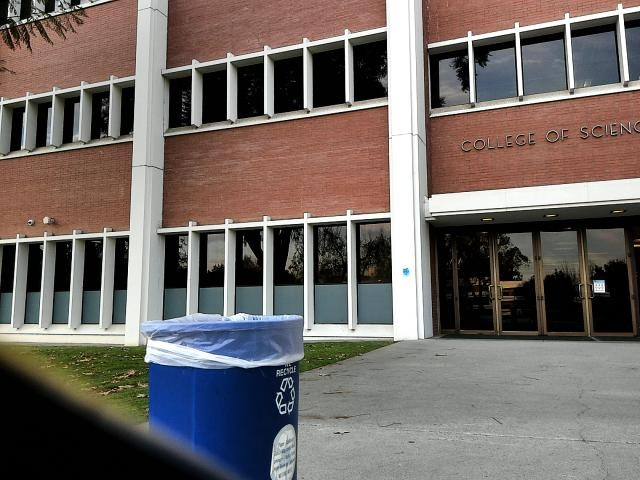trashcan_open: (141, 295, 311, 480)
